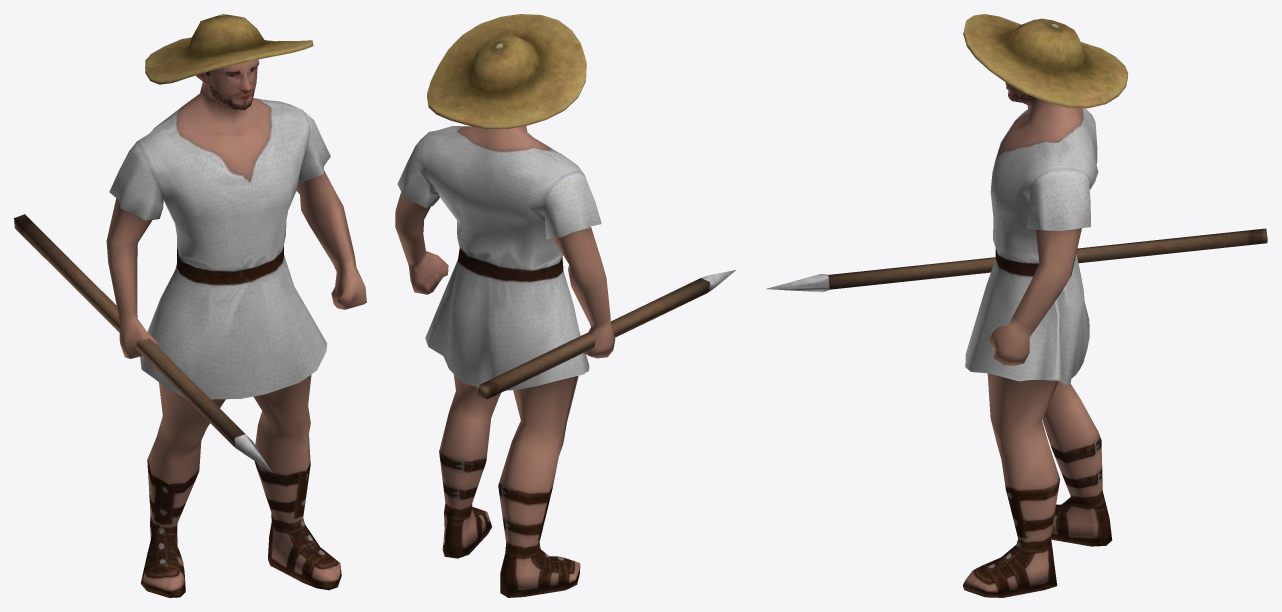
File: 2-militia.glb
3 views of the same model, side by side, from view 1: azimuth 30°, elevation 25°; view 2: azimuth 150°, elevation 25°; view 3: azimuth 270°, elevation 25° (orthographic). The views are drawn at different scales.
Bounding box in the file's own units: 0.8871 × 2.07 × 1.76.
Materials: 3 (3 with a texture image).
